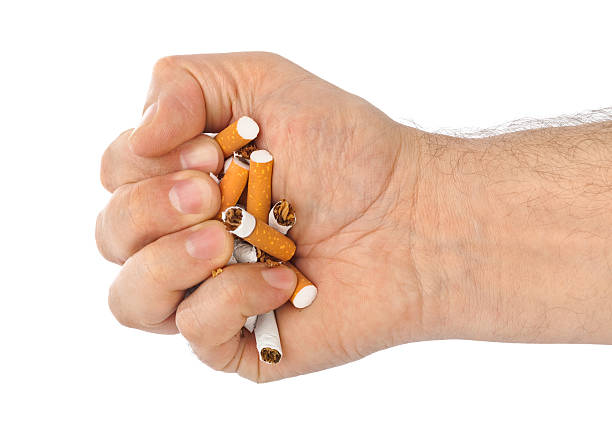cigarette: (221, 206, 297, 262), (213, 155, 251, 222), (214, 114, 263, 161), (246, 150, 271, 224), (282, 259, 318, 310), (253, 310, 284, 366), (267, 196, 297, 235), (231, 235, 267, 262)
